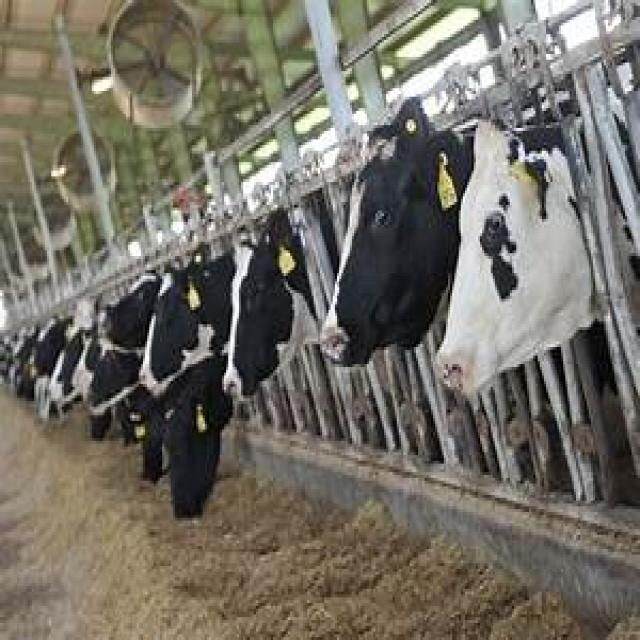cow: (226, 134, 471, 398), (433, 122, 599, 401), (322, 105, 476, 367), (141, 256, 235, 387)
